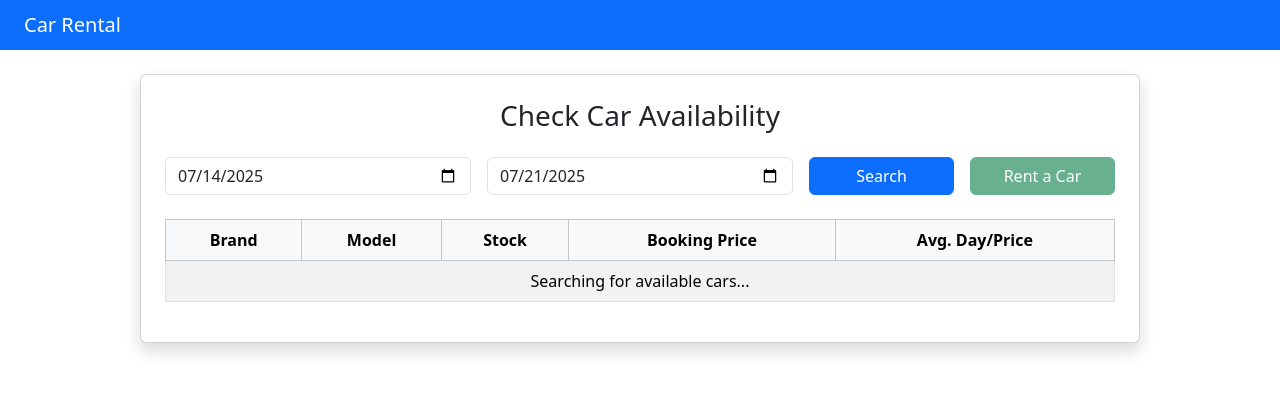
Test: CarsPage › should render available cars after search
The image size is (1280, 413).
Click the button "Search" at x=882, y=176, box [809, 157, 954, 195]
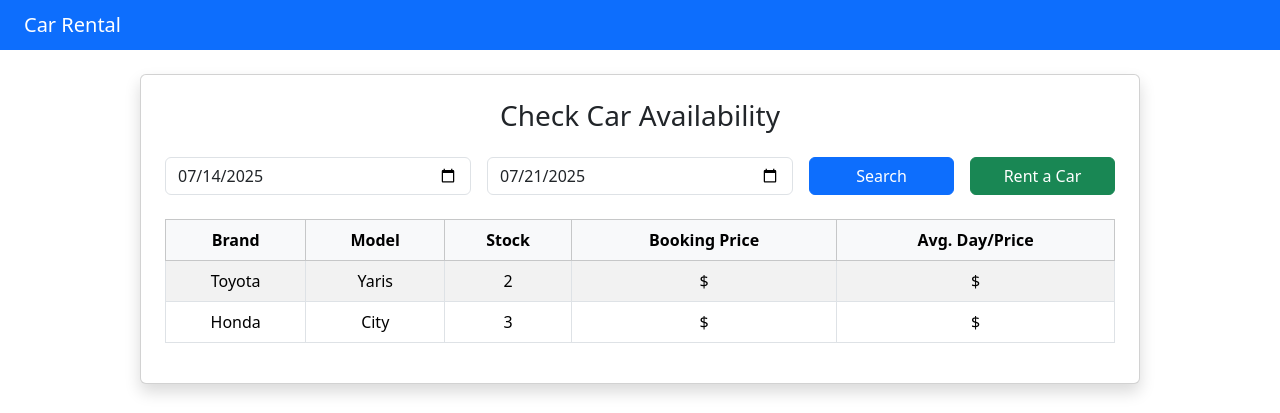
Result: the text "Toyota" is shown at [166, 260, 306, 301]
Result: the text "Yaris" is shown at [306, 260, 445, 301]
Result: the text "2" is shown at [445, 260, 572, 301]
